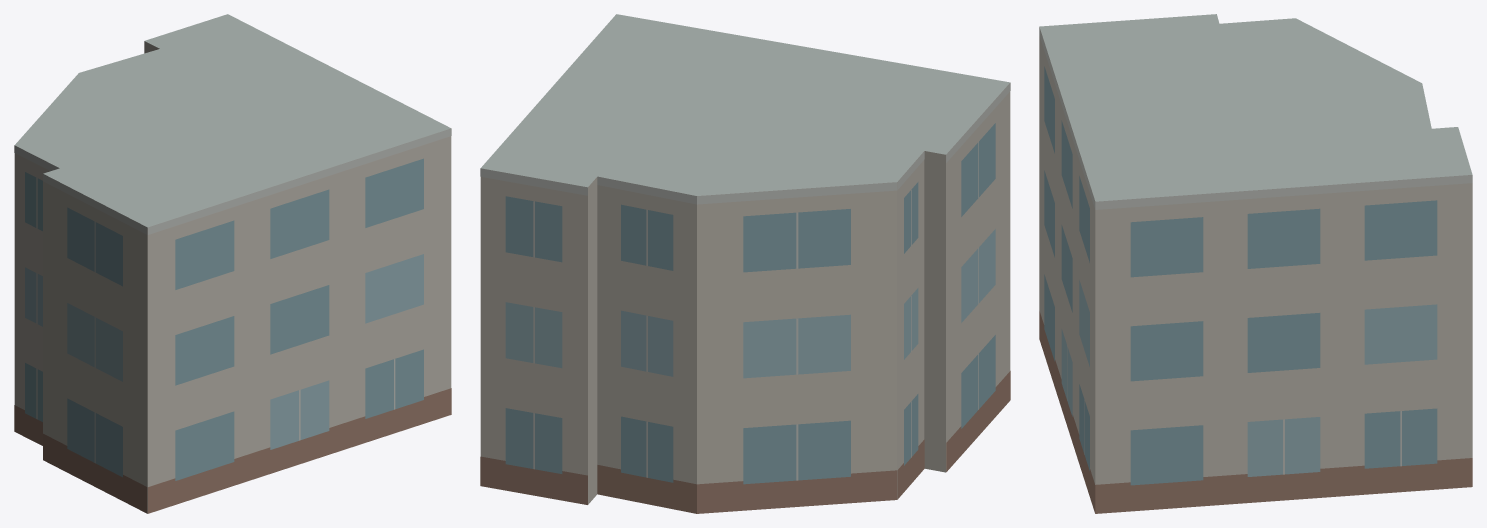
The model's file is survey-upis-32808521.glb.
3 renders of one model, left to right at view 1: azimuth 30°, elevation 25°; view 2: azimuth 150°, elevation 25°; view 3: azimuth 270°, elevation 25°, orthographic. The views are drawn at different scales.
Parts seen in each view (by area): view 1: survey-upis-32808521.tmp; view 2: survey-upis-32808521.tmp; view 3: survey-upis-32808521.tmp.
Boxes of the visible parts, bbox=[...] form: survey-upis-32808521.tmp: bbox=[14, 14, 451, 513]; survey-upis-32808521.tmp: bbox=[480, 14, 1010, 513]; survey-upis-32808521.tmp: bbox=[1039, 14, 1472, 513].
Size of the model in its own units: 11.81 by 9.15 by 11.52.
